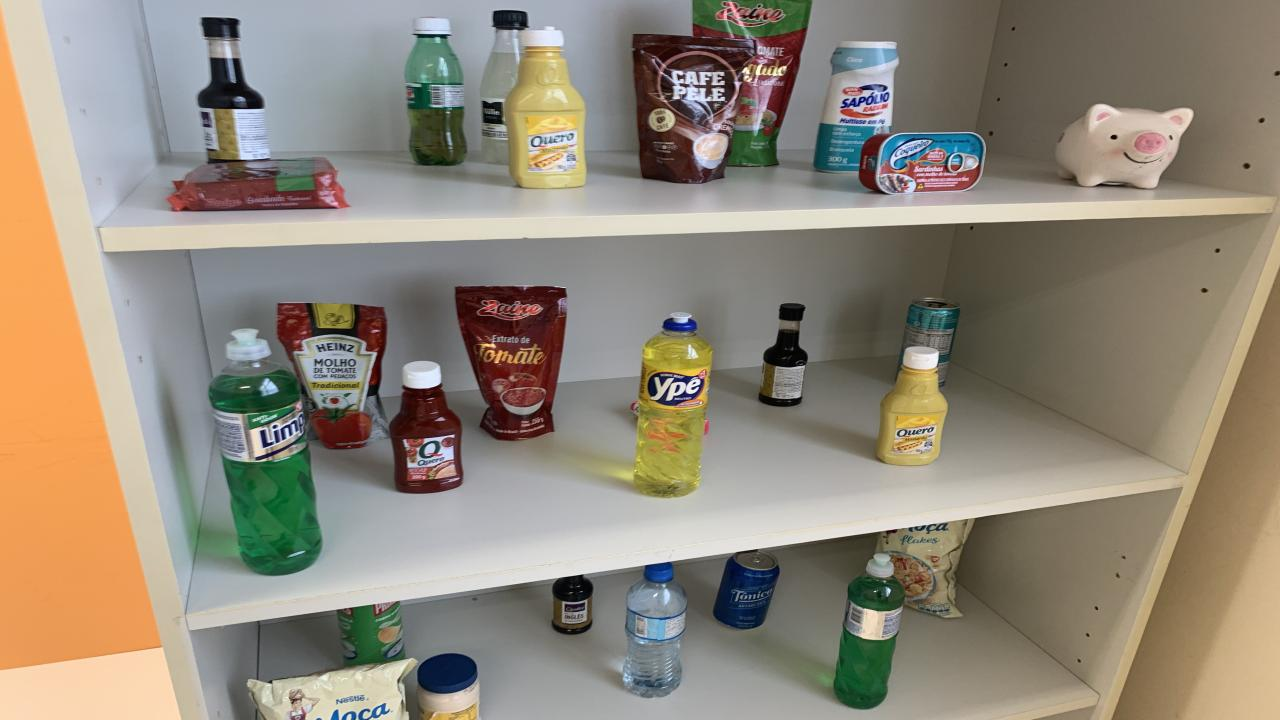Cleaner-Cleanup_Items: (815, 41, 900, 172)
Coffee-Pantry_Items: (632, 34, 755, 184)
Detergent-Cleanup_Items: (208, 330, 322, 574), (635, 313, 712, 497), (832, 553, 905, 709)
English_Sauce-Pantry_Items: (198, 17, 270, 163), (760, 304, 808, 407), (552, 576, 592, 634)
Flakes-Snacks: (248, 658, 418, 720), (875, 519, 975, 617)
Guarana-Drinks: (405, 17, 468, 165)
Ketchup-Pantry_Items: (390, 362, 462, 493)
Mayonnaise-Pantry_Items: (418, 652, 480, 720)
Mustard-Pantry_Items: (505, 26, 585, 189), (875, 347, 948, 465)
Pig_Safe-Miscellaneous: (1055, 105, 1192, 188)
Pringles-Snacks: (338, 602, 405, 666)
Soda-Drinks: (480, 9, 528, 165)
Tea-Drinks: (902, 298, 960, 386)
Tomato_Sauce-Pantry_Items: (692, 0, 812, 167), (455, 287, 568, 441), (278, 302, 388, 448)
Tonic-Drinks: (712, 549, 780, 628)
Tuna_Can-Pantry_Items: (860, 133, 985, 195)
Water_Bottle-Drinks: (622, 562, 688, 698)
